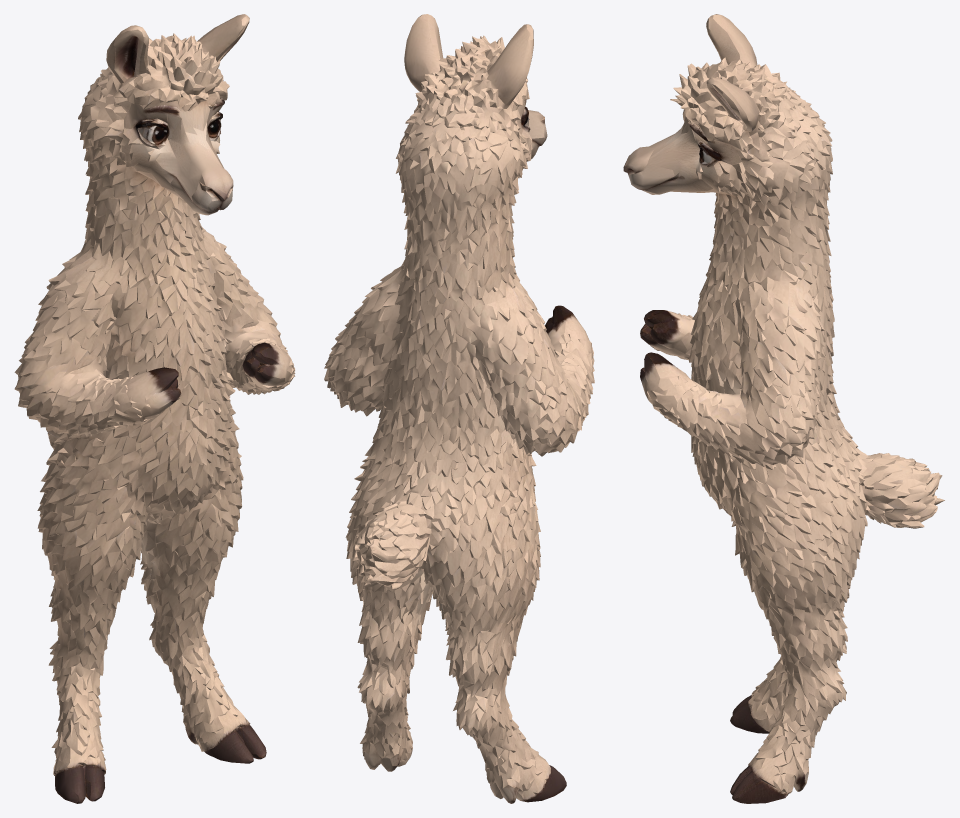
The model's file is llama.glb.
The picture shows the model from 3 angles, left to right: view 1: azimuth 30°, elevation 25°; view 2: azimuth 150°, elevation 25°; view 3: azimuth 270°, elevation 25°; orthographic projection. The views are drawn at different scales.
Bounding box in the file's own units: 0.6619 × 1.9 × 0.7651.
Materials: 1 (1 with a texture image).
